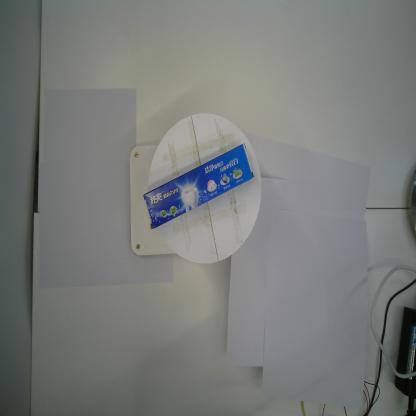Personal Hygiene: (141, 141, 256, 231)
